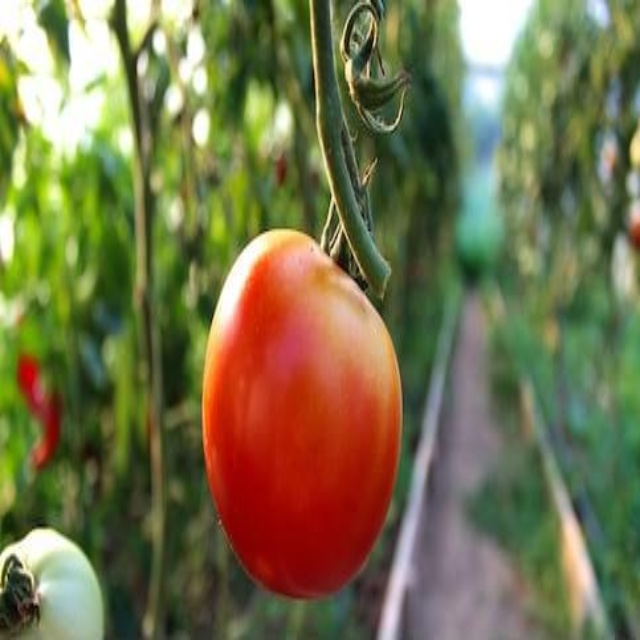tomato: (182, 218, 428, 596)
